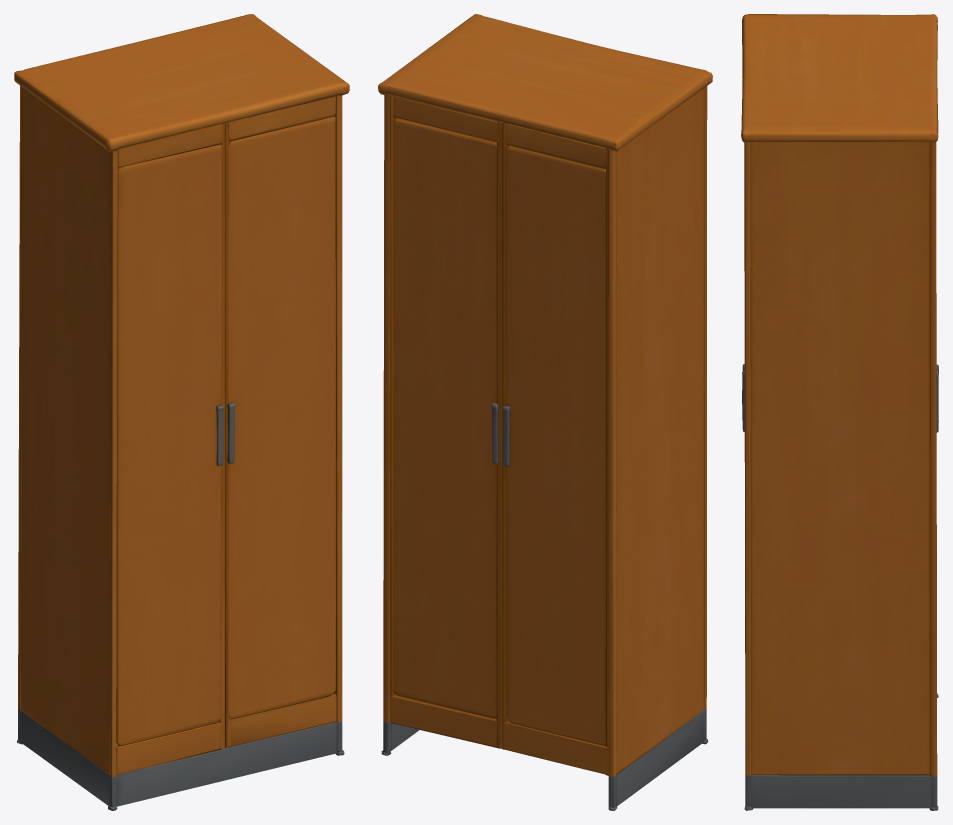
Rendered from apartment-wardrobe.glb.
3 renders of one model, left to right at view 1: azimuth 30°, elevation 25°; view 2: azimuth 150°, elevation 25°; view 3: azimuth 270°, elevation 25°, orthographic.
Visible parts, largest first — view 1: geometry_0; view 2: geometry_0; view 3: geometry_0.
Boxes of the visible parts, box(x1,y1,x2,y2) form: geometry_0: box(14, 14, 349, 810); geometry_0: box(378, 14, 712, 810); geometry_0: box(741, 14, 938, 810).
Bounding box in the file's own units: 0.3766 × 1 × 0.2636.
1 material, 1 textured.
